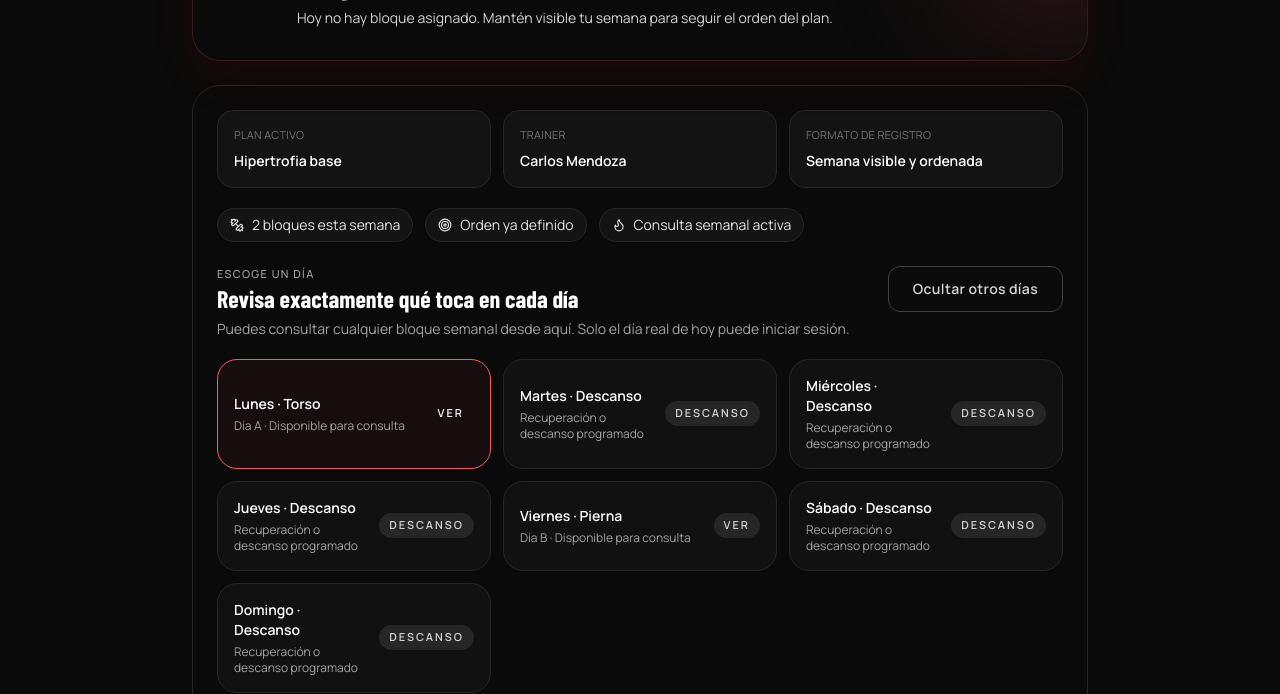
Test: TodayWorkoutPage › shows explicit rest state when selecting a day without workout
What coordinates should you click on to do the following:
click the button with test id "day-selector-wed"
I would click on:
 (842, 385)
Its box is [789,358,1063,468].
(page scrolled)
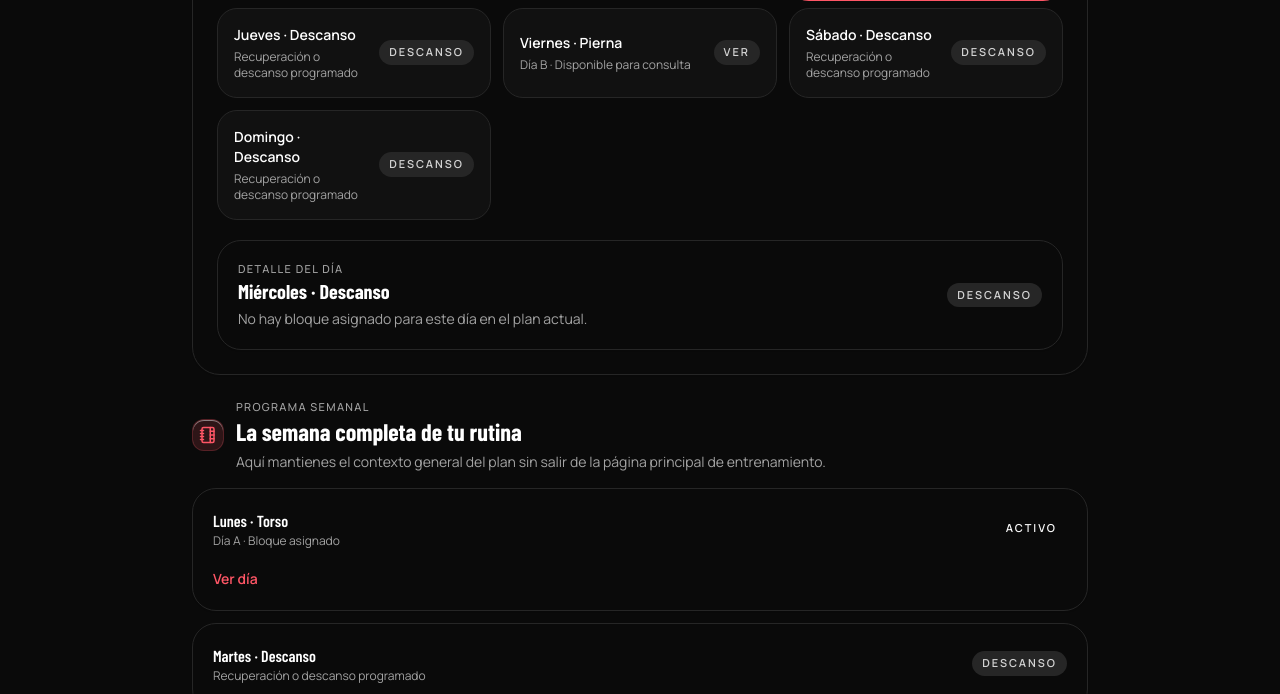
Check: the element with test id "selected-day-detail" shows "Miércoles · Descanso", box [217,240,1063,350]
Check: the element with test id "selected-day-detail" shows "No hay bloque asignado para este día", box [238,309,587,328]
